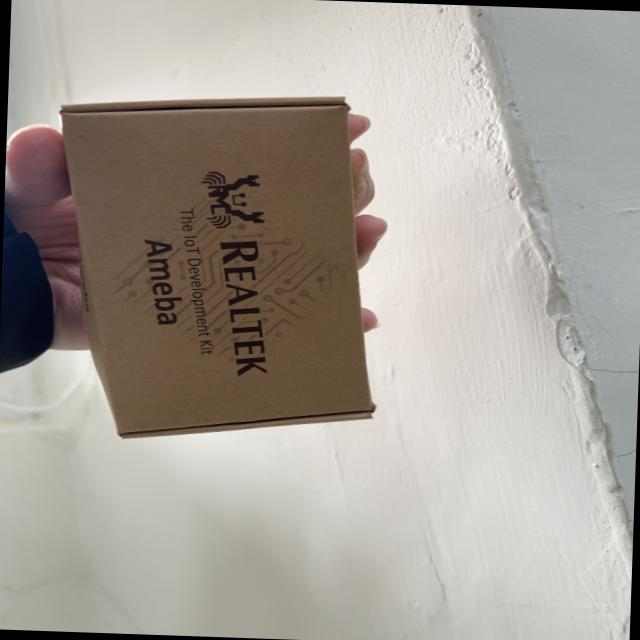box: (35, 90, 407, 459)
